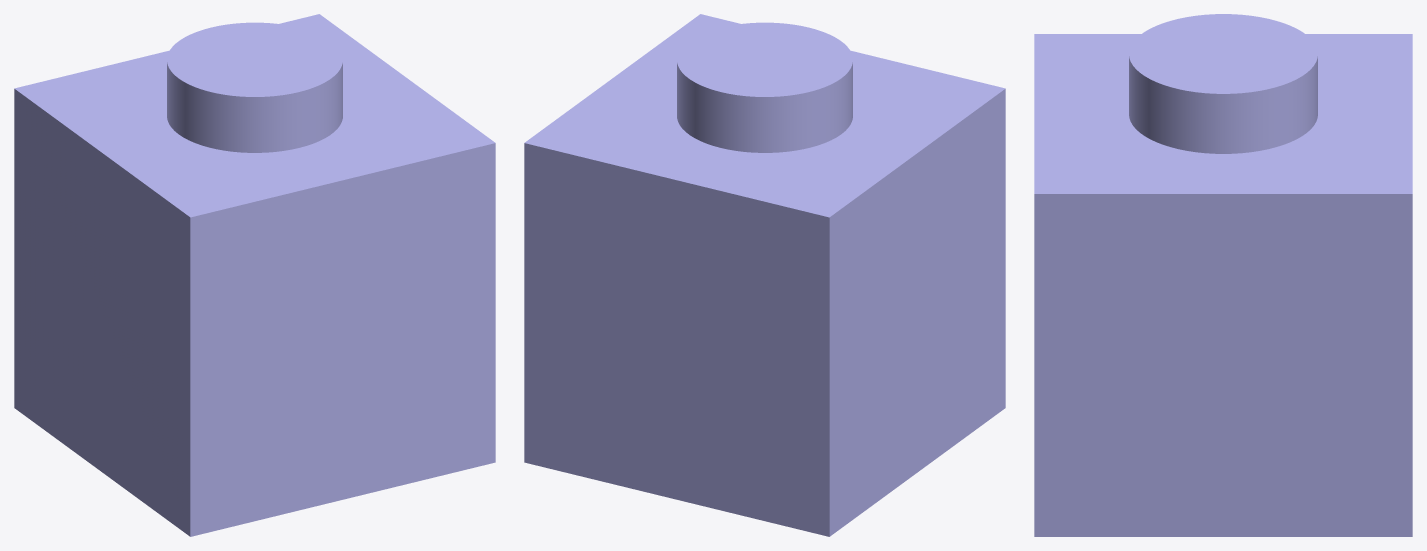
The model's file is brick.glb.
3 views of the same model, side by side, from view 1: azimuth 30°, elevation 25°; view 2: azimuth 150°, elevation 25°; view 3: azimuth 270°, elevation 25° (orthographic). The views are drawn at different scales.
Size of the model in its own units: 1 by 1.17 by 1.
